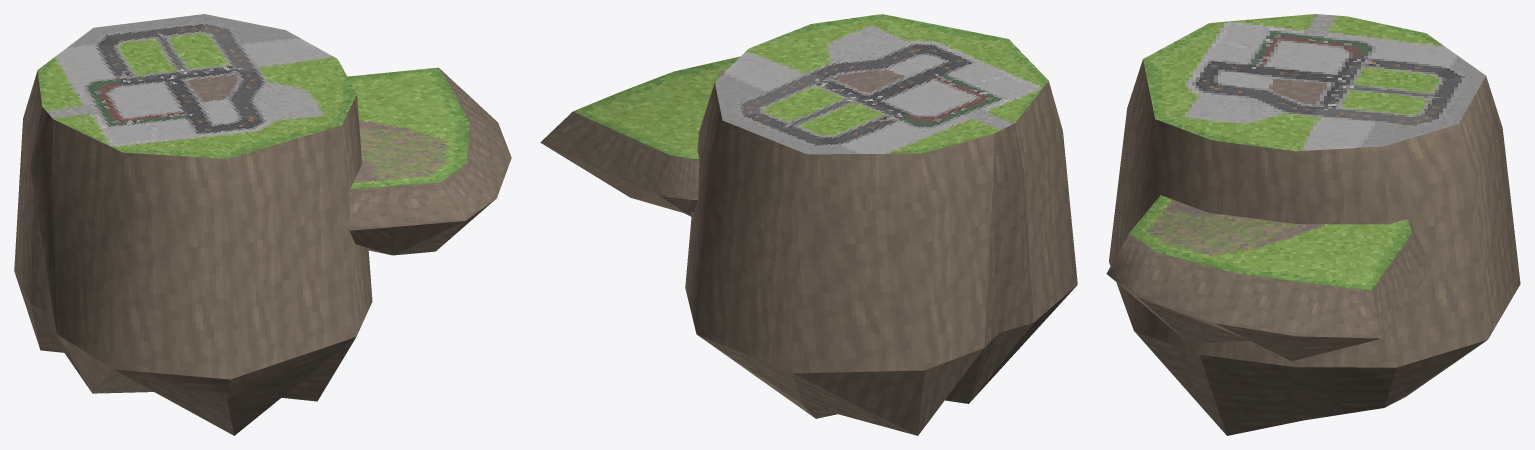
File: 05a5_Kuroshio_Town.glb
3 renders of one model, left to right at view 1: azimuth 30°, elevation 25°; view 2: azimuth 150°, elevation 25°; view 3: azimuth 270°, elevation 25°, orthographic. The views are drawn at different scales.
Parts seen in each view (by area): view 1: part_0; view 2: part_0; view 3: part_0.
Part boxes in pixels (x1=…): part_0: x1=14, y1=14, x2=511, y2=435; part_0: x1=540, y1=14, x2=1077, y2=435; part_0: x1=1106, y1=14, x2=1520, y2=435.
Size of the model in its own units: 179 by 115 by 139.
Materials: 1 (1 with a texture image).
